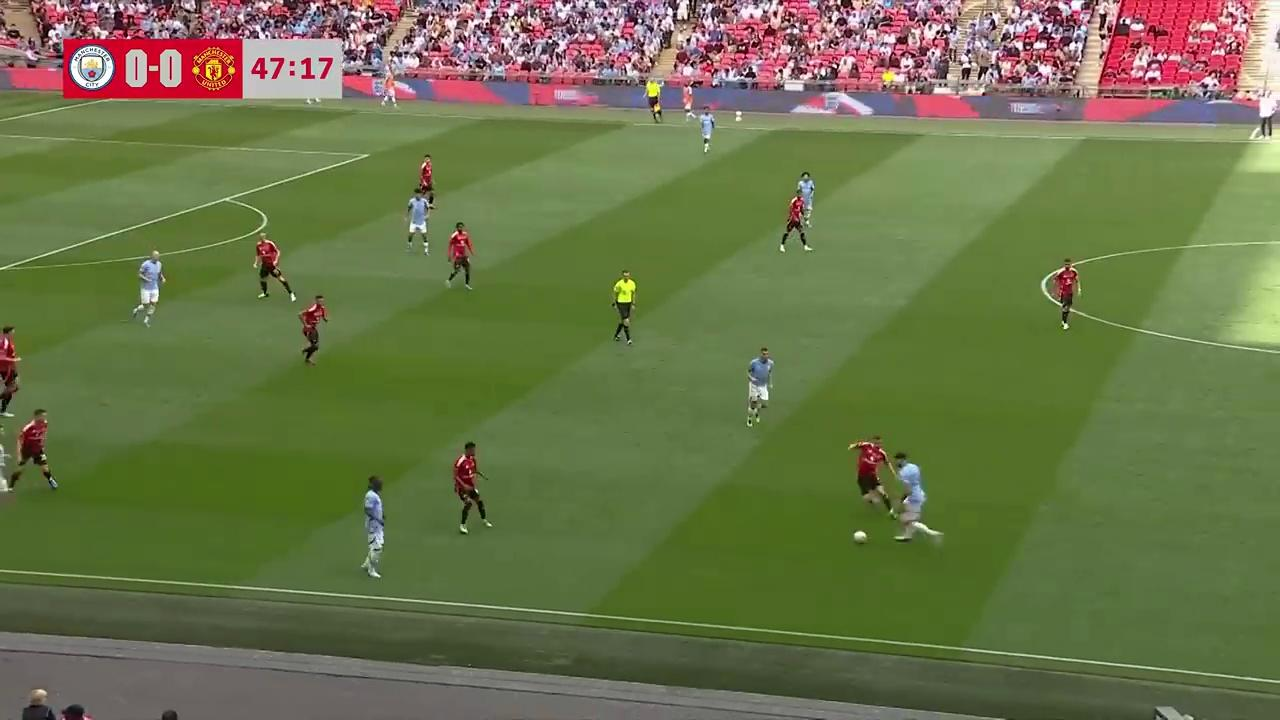ball: (851, 527, 868, 544)
player: (892, 454, 942, 545), (9, 407, 58, 491), (847, 434, 897, 514), (452, 441, 493, 533), (359, 475, 387, 577), (131, 250, 167, 327), (252, 236, 294, 300), (1045, 257, 1080, 331), (298, 293, 329, 365), (746, 345, 773, 427), (445, 222, 474, 290), (779, 193, 811, 252), (405, 190, 432, 255), (0, 324, 20, 389), (796, 171, 815, 221), (418, 153, 434, 206), (699, 108, 716, 153), (0, 426, 10, 496)
referee: (611, 270, 637, 345), (646, 79, 665, 124)
